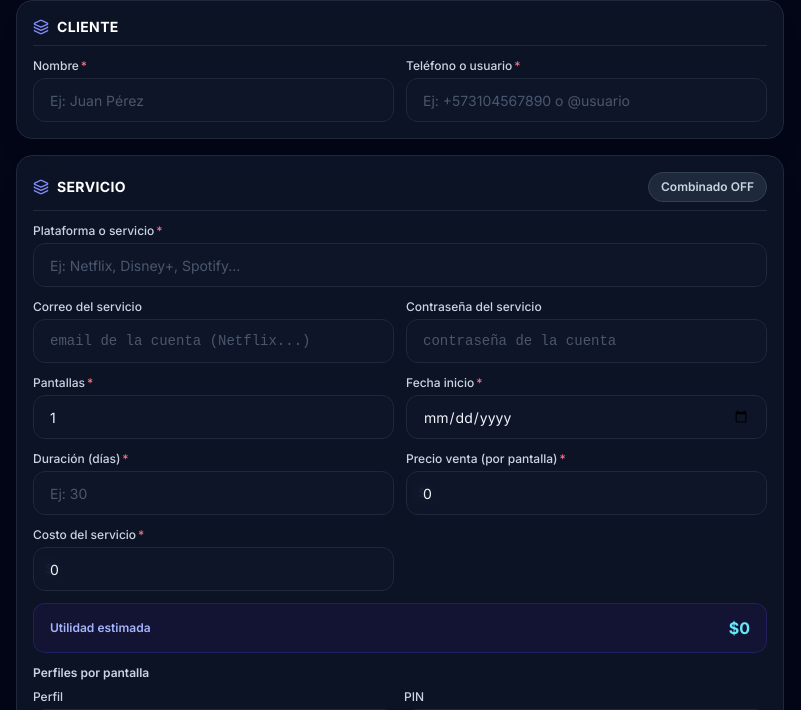
Test: VentasForm — Cálculo de utilidad › actualiza la utilidad estimada al cambiar pantallas, precio o costo
Expected: the text "$0" is shown, [729, 616, 750, 640]
Step 1. Replace the text in the number field below "Pantallas" with "2" → (214, 417), box [33, 395, 394, 439]
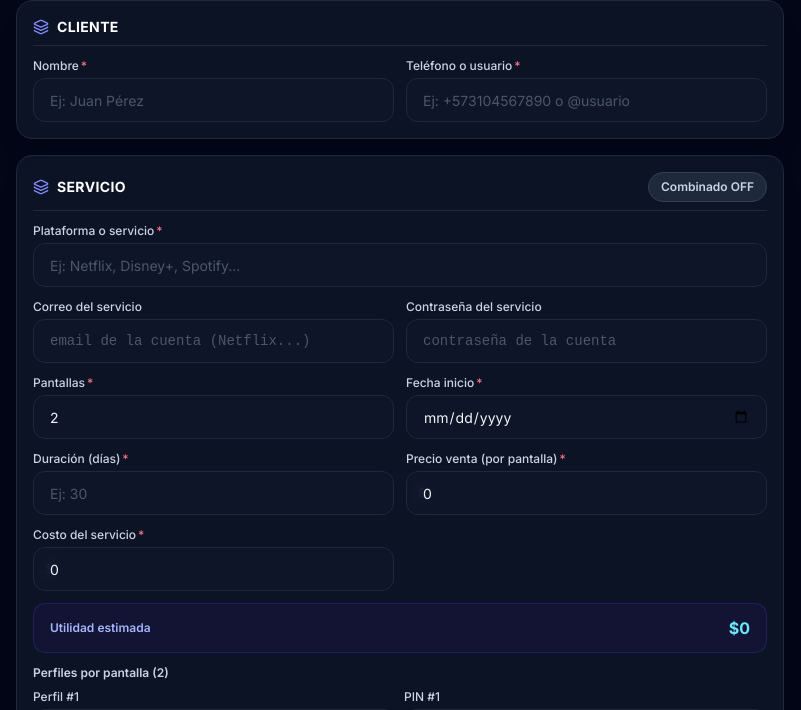
Step 2. Replace the text in the number field below "Precio venta (por pantalla)" with "15000" → (586, 493), box [406, 471, 767, 515]
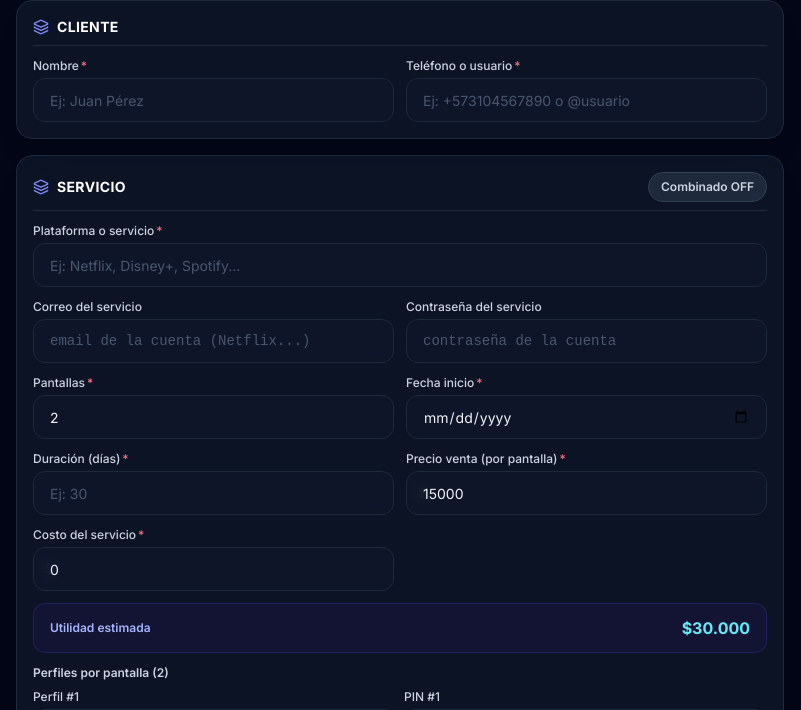
Step 3. Replace the text in the number field below "Costo del servicio" with "5000" → (214, 569), box [33, 547, 394, 591]
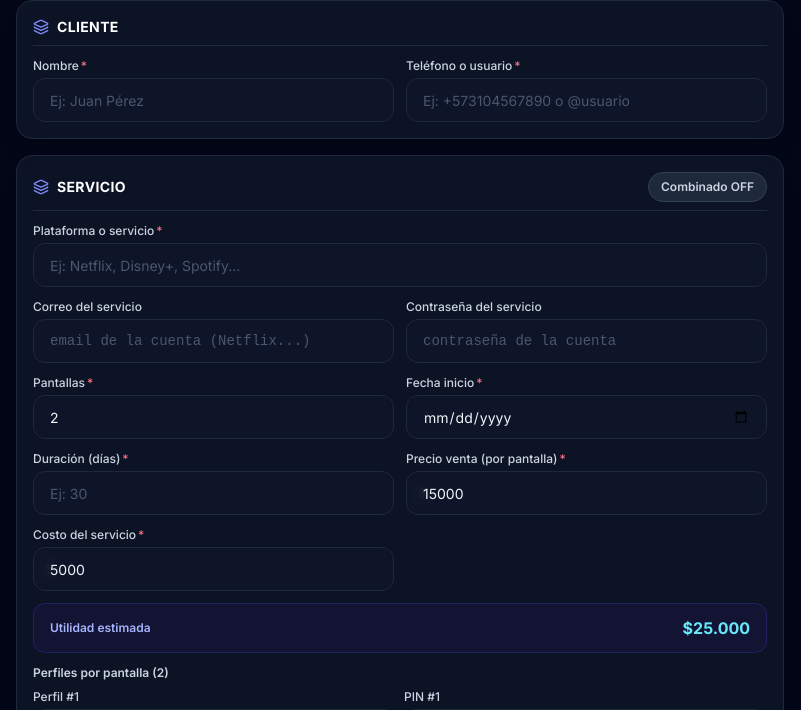
Expected: the text "$25.000" is shown, [683, 616, 750, 640]
